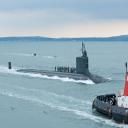submarine: (9, 41, 112, 85)
